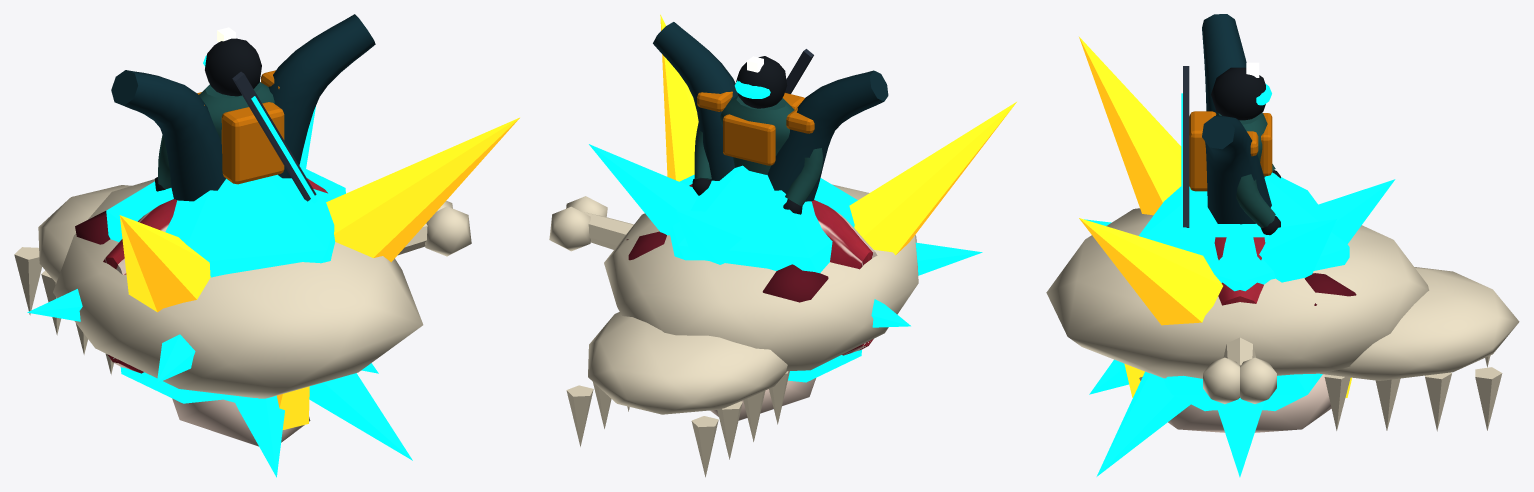
File: props.glb
The picture shows the model from 3 angles, left to right: view 1: azimuth 30°, elevation 25°; view 2: azimuth 150°, elevation 25°; view 3: azimuth 270°, elevation 25°; orthographic projection. The views are drawn at different scales.
Parts seen in each view (by area): view 1: Chunk_Skull, Chunk_Heart, Hunter, Chunk_Steak, Chunk_Plate; view 2: Chunk_Skull, Chunk_Heart, Hunter, Chunk_Steak, Chunk_Plate; view 3: Chunk_Skull, Chunk_Heart, Hunter, Chunk_Steak, Chunk_Plate.
Boxes of the visible parts, x1,y1,x2,y2 form: Chunk_Skull: (14, 117, 519, 398); Chunk_Heart: (27, 14, 412, 477); Hunter: (155, 27, 317, 203); Chunk_Steak: (103, 178, 471, 373); Chunk_Plate: (172, 386, 310, 446); Chunk_Skull: (566, 14, 1016, 477); Chunk_Heart: (589, 22, 982, 382); Hunter: (692, 49, 823, 214); Chunk_Steak: (549, 184, 877, 355); Chunk_Plate: (710, 378, 815, 420); Chunk_Skull: (1046, 37, 1519, 431); Chunk_Heart: (1084, 14, 1395, 477); Hunter: (1181, 62, 1280, 235); Chunk_Steak: (1203, 237, 1276, 404); Chunk_Plate: (1124, 363, 1351, 432).
Size of the model in its own units: 4.26 by 3.78 by 4.4.
Materials: 13 (1 with a texture image).
